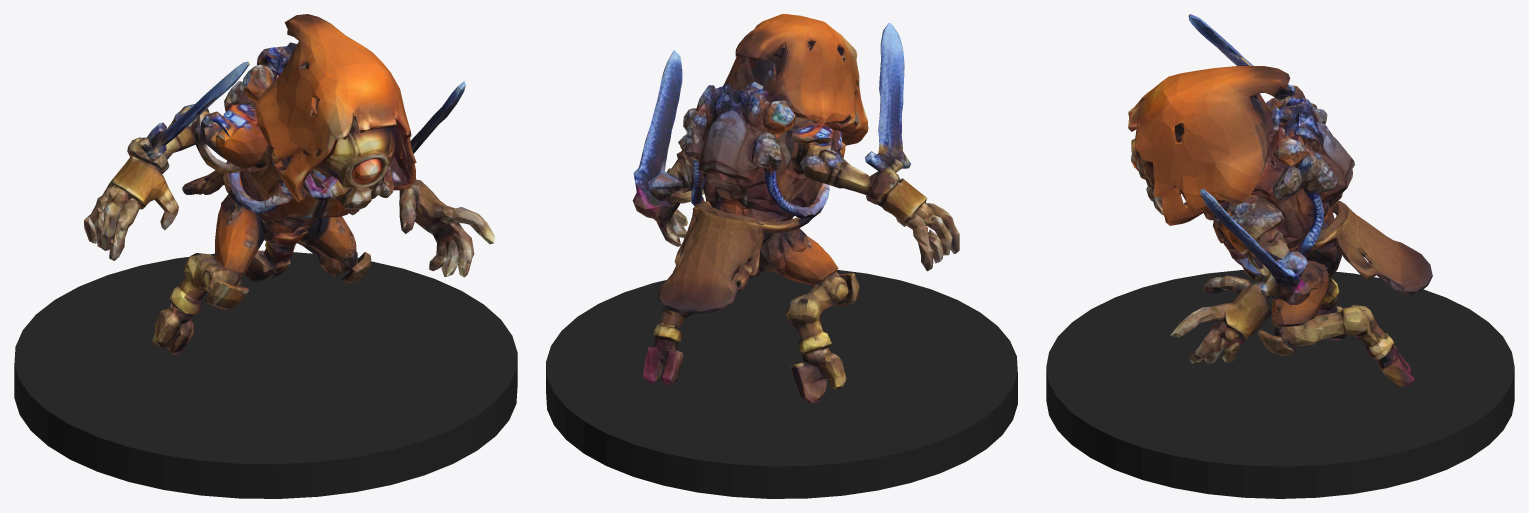
Rendered from hc-sicarian-ruststalker-warrior-b.glb.
3 renders of one model, left to right at view 1: azimuth 30°, elevation 25°; view 2: azimuth 150°, elevation 25°; view 3: azimuth 270°, elevation 25°, orthographic. The views are drawn at different scales.
Parts seen in each view (by area): view 1: base, figure; view 2: base, figure; view 3: base, figure.
Part boxes in pixels (x1=…): base: x1=14, y1=252, x2=517, y2=498; figure: x1=84, y1=14, x2=494, y2=354; base: x1=546, y1=269, x2=1017, y2=498; figure: x1=632, y1=14, x2=959, y2=403; base: x1=1046, y1=269, x2=1514, y2=498; figure: x1=1128, y1=14, x2=1432, y2=387.
Size of the model in its own units: 1.57 by 1.32 by 1.57.
2 materials, 1 textured.
